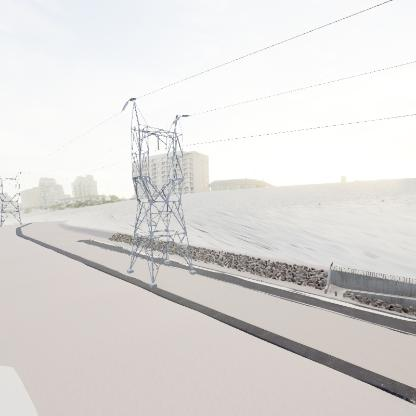tower: (118, 94, 197, 288), (0, 169, 25, 232)
